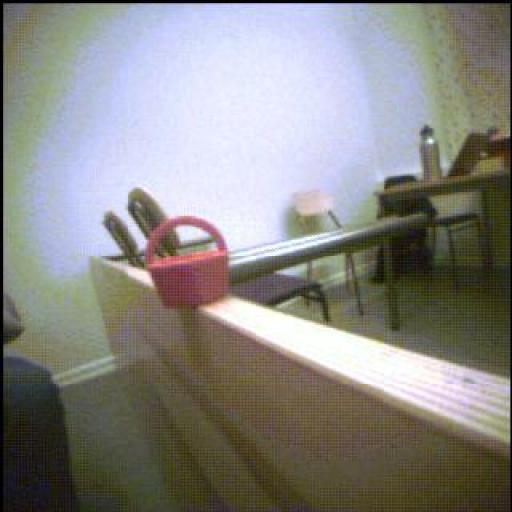Bucket: (147, 217, 230, 308)
